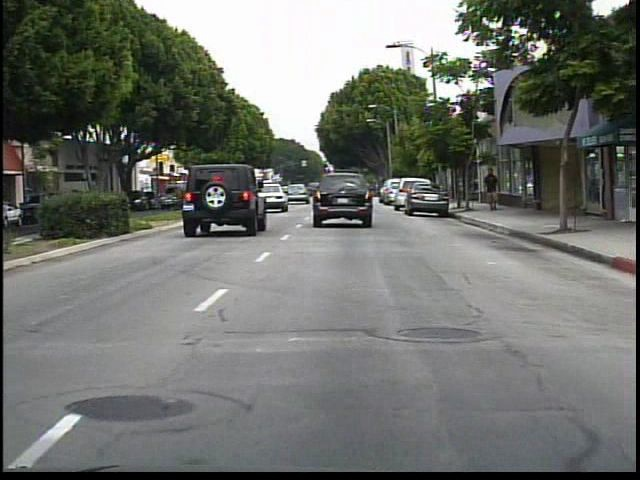person: (480, 166, 505, 215)
